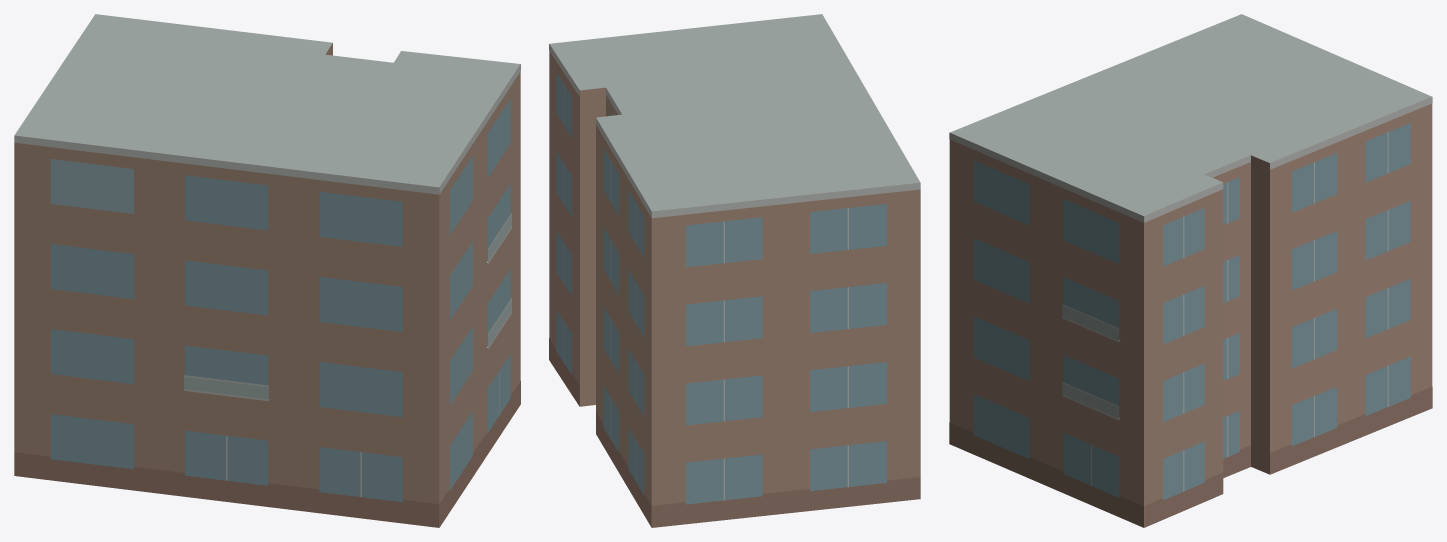
Rendered from survey-upis-32929869.glb.
The picture shows the model from 3 angles, left to right: view 1: azimuth 30°, elevation 25°; view 2: azimuth 150°, elevation 25°; view 3: azimuth 270°, elevation 25°; orthographic projection. The views are drawn at different scales.
Parts seen in each view (by area): view 1: survey-upis-32929869.tmp; view 2: survey-upis-32929869.tmp; view 3: survey-upis-32929869.tmp.
Boxes of the visible parts, box(x1,y1,x2,y2) form: survey-upis-32929869.tmp: box(14, 14, 520, 527); survey-upis-32929869.tmp: box(549, 14, 920, 527); survey-upis-32929869.tmp: box(949, 14, 1432, 527).
Bounding box in the file's own units: 16.03 × 11.5 × 16.16.
